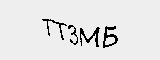Б: (102, 24, 119, 49)
З: (67, 22, 80, 48)
М: (78, 24, 100, 51)
Т: (52, 20, 66, 44), (40, 16, 54, 38)
